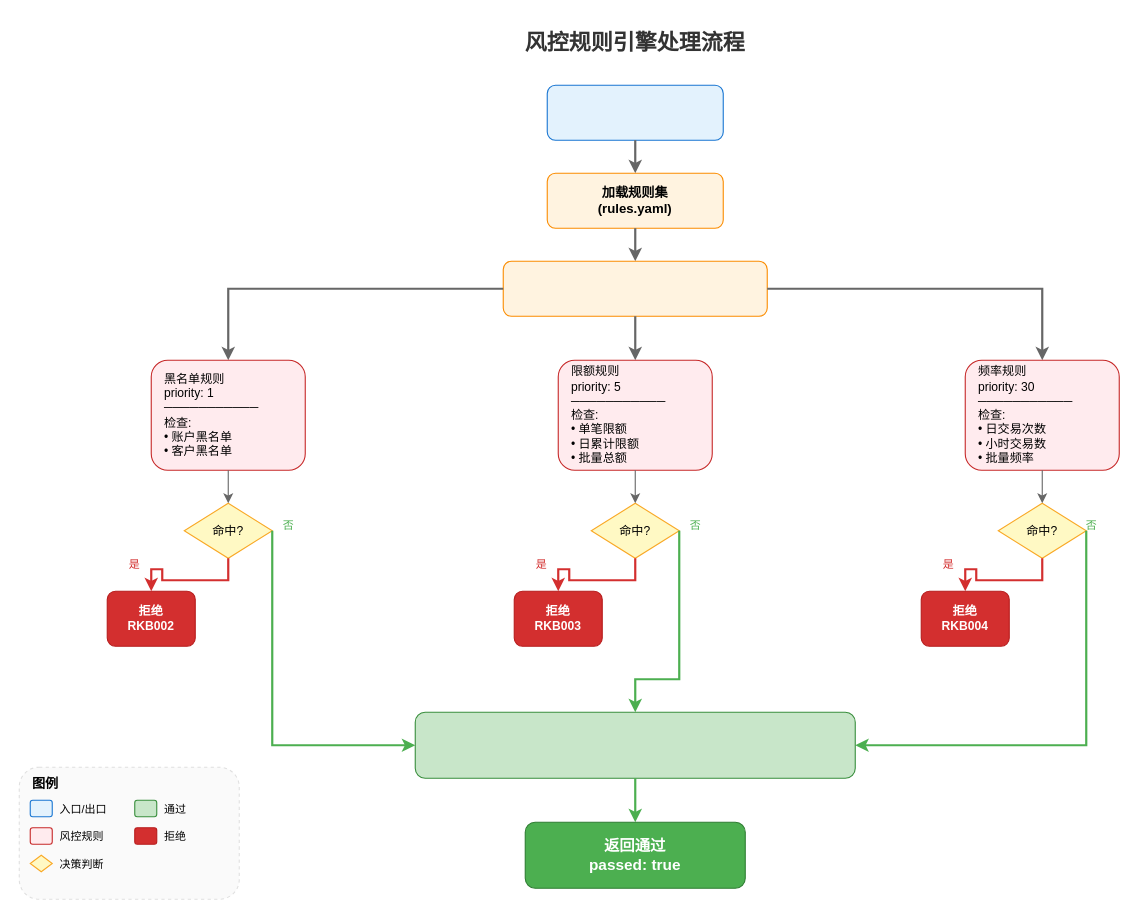
Some shapes in this 1139 by 919 pixel diagram are drawn without their labels. The shapes that lost their labels are listed below. From the top down, each one's box as (x1, y1, x2, y2) in pixels, then its label:
(546, 84, 723, 140): 请求入口 POST /check
(502, 260, 767, 316): 按优先级排序规则 priority: 1 → 2 → 3 → ...
(414, 711, 855, 778): 全部规则通过
